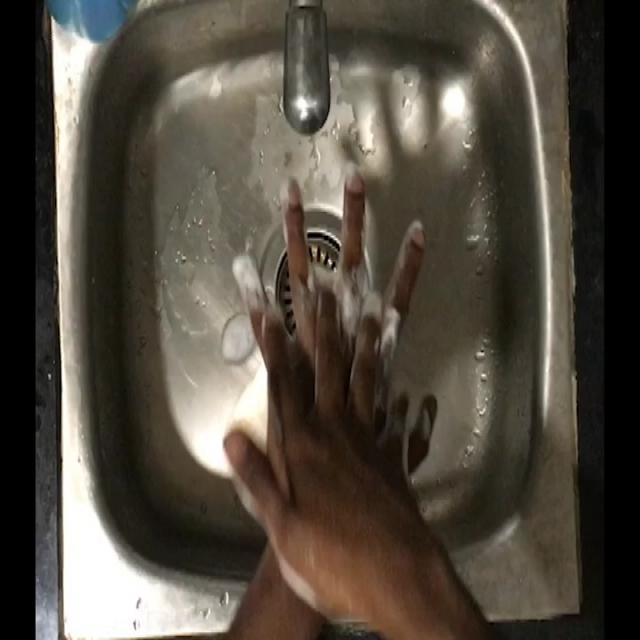step_2: (213, 162, 442, 492)
